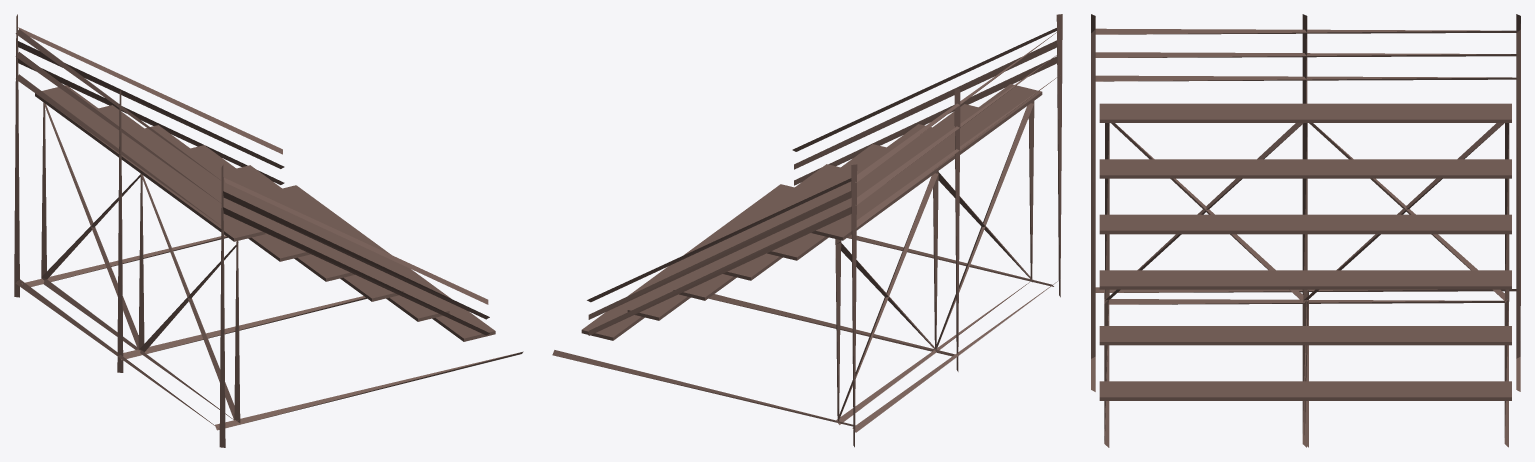
The model's file is bleacher.lod1.glb.
3 renders of one model, left to right at view 1: azimuth 30°, elevation 25°; view 2: azimuth 150°, elevation 25°; view 3: azimuth 270°, elevation 25°, orthographic. The views are drawn at different scales.
Visible parts, largest first — view 1: bleacher_bleacherMAT_0; view 2: bleacher_bleacherMAT_0; view 3: bleacher_bleacherMAT_0.
Part boxes in pixels (bbox=[...]): bleacher_bleacherMAT_0: bbox=[14, 14, 523, 447]; bleacher_bleacherMAT_0: bbox=[552, 14, 1062, 447]; bleacher_bleacherMAT_0: bbox=[1091, 14, 1520, 447].
Size of the model in its own units: 6 by 5.24 by 7.
